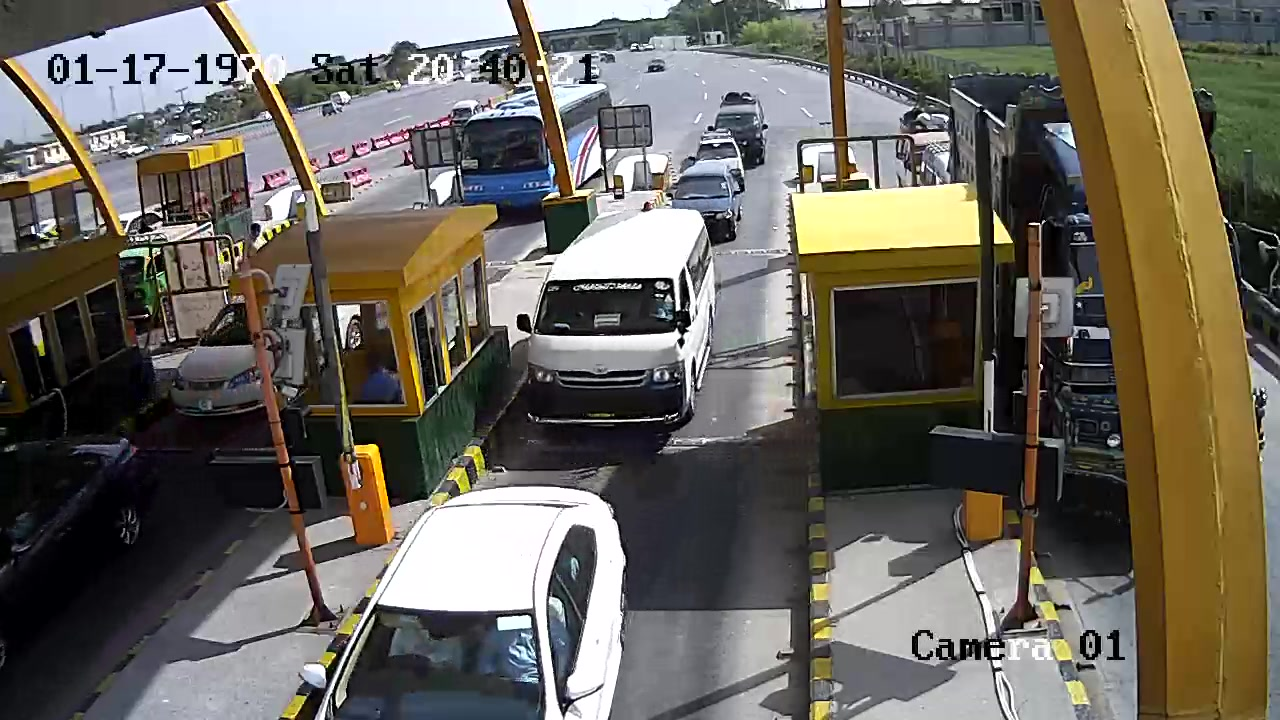F3: (525, 204, 723, 460)
